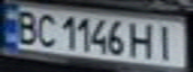1: (54, 13, 78, 51), (72, 15, 93, 52)
4: (90, 16, 112, 54)
6: (106, 18, 130, 56)
B: (9, 7, 42, 45)
C: (33, 11, 60, 47)
H: (127, 20, 160, 60)
I: (151, 22, 184, 61)
